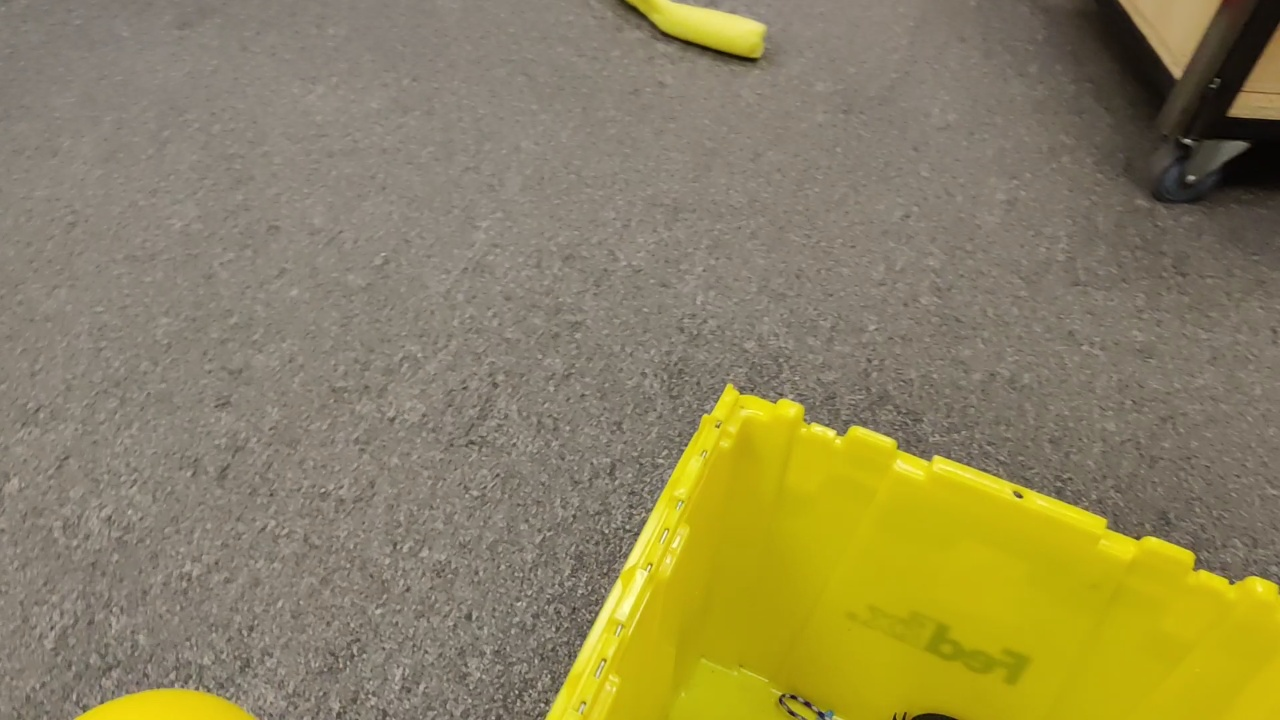Ball: (73, 687, 258, 720)
